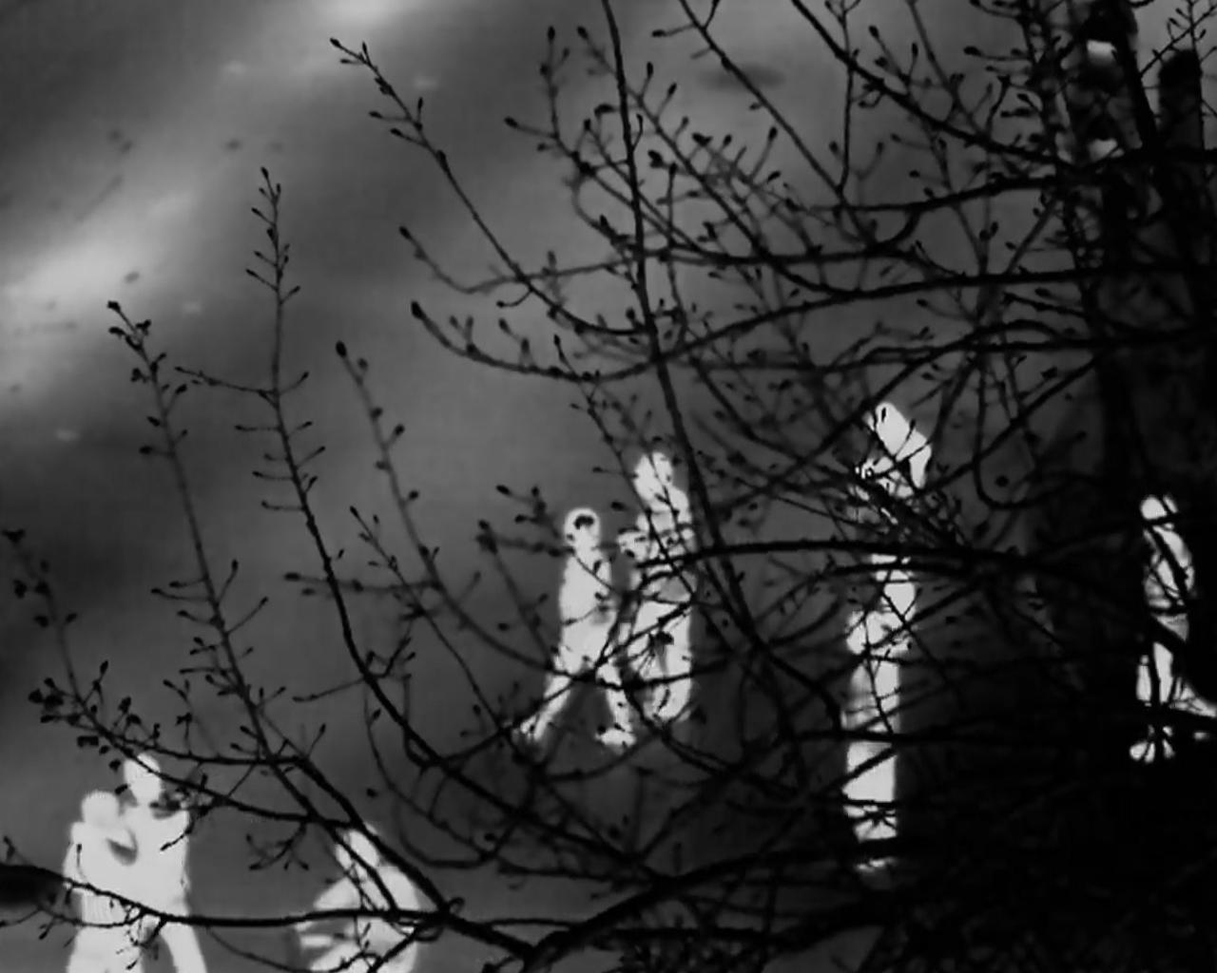person: (1118, 490, 1217, 756), (832, 587, 929, 847), (531, 499, 631, 729), (310, 827, 442, 973), (626, 440, 698, 706), (124, 745, 211, 963), (881, 399, 959, 621), (68, 794, 153, 942)
